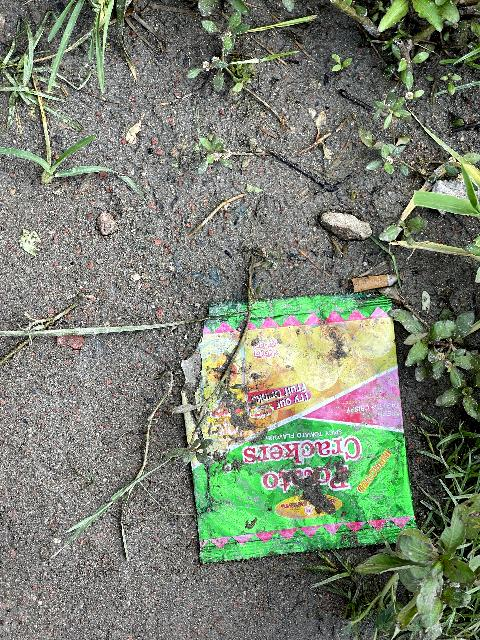packet: (176, 265, 452, 578)
